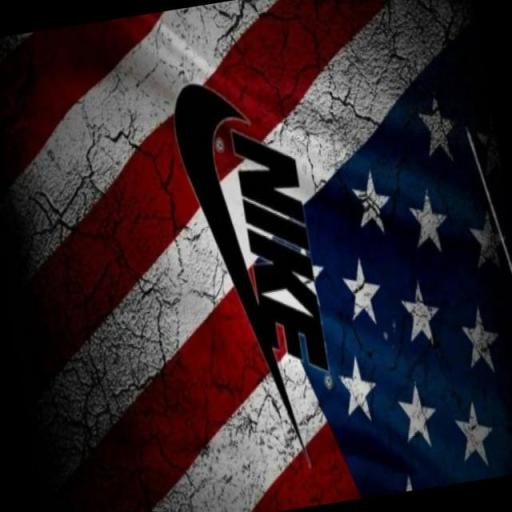Nike: (163, 69, 314, 488), (226, 118, 331, 385)
